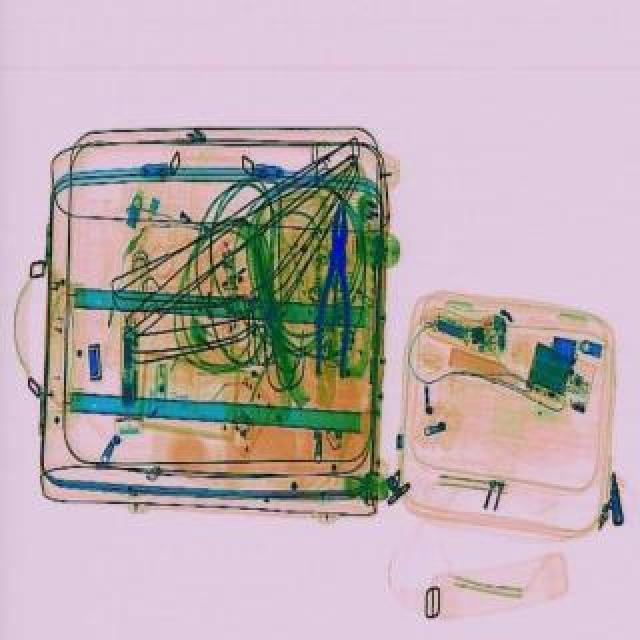wrench: (310, 202, 358, 378)
